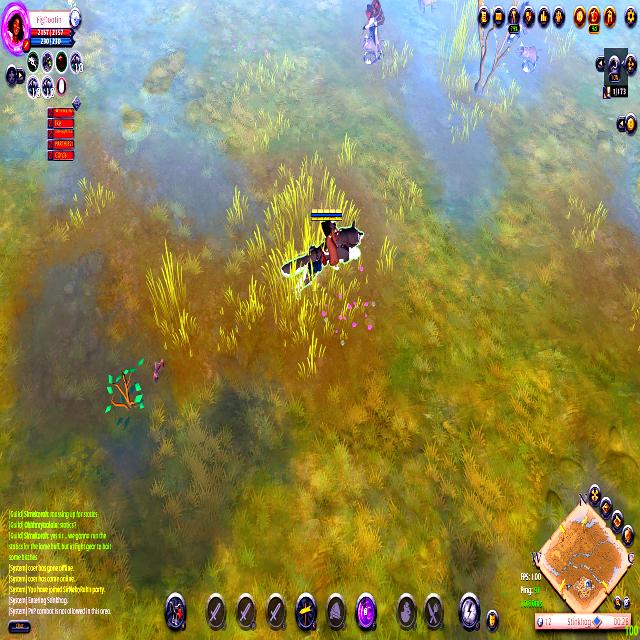ore: (353, 0, 392, 67)
red: (273, 196, 375, 308)
